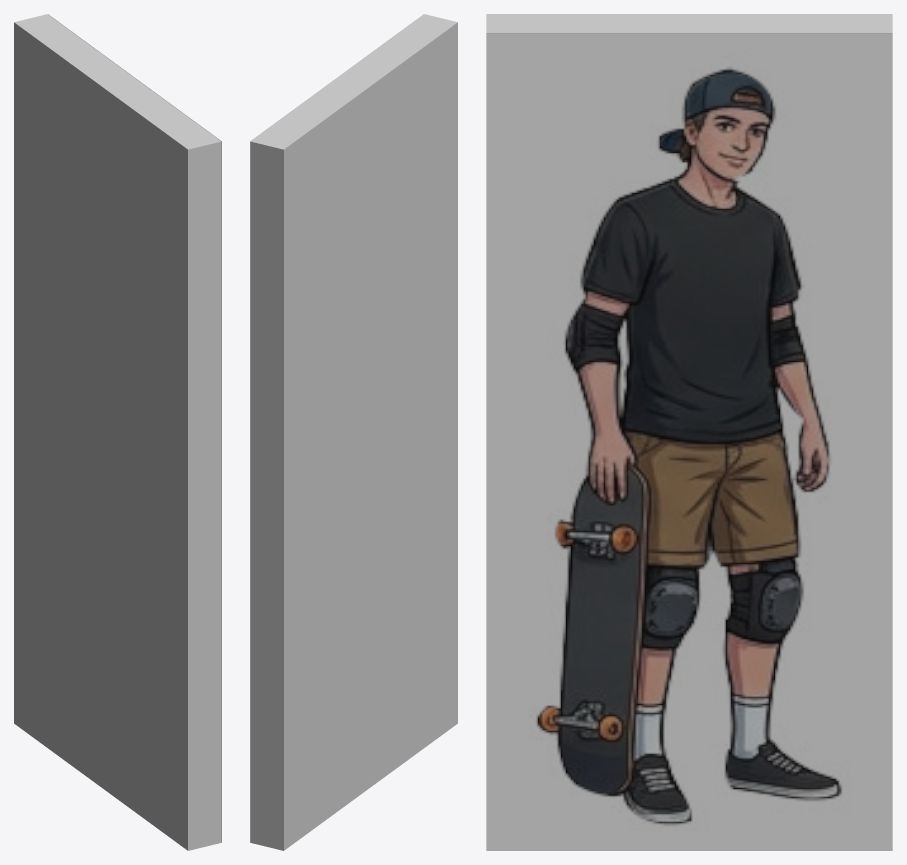
3 renders of one model, left to right at view 1: azimuth 30°, elevation 25°; view 2: azimuth 150°, elevation 25°; view 3: azimuth 270°, elevation 25°, orthographic. The views are drawn at different scales.
Parts seen in each view (by area): view 1: 立方体, 平面; view 2: 立方体, 平面; view 3: 平面, 立方体.
Part boxes in pixels (<box>): 立方体: <box>14,14,221,850</box>; 平面: <box>48,14,221,842</box>; 立方体: <box>250,14,457,850</box>; 平面: <box>250,14,423,842</box>; 平面: <box>486,33,892,850</box>; 立方体: <box>486,14,892,33</box>.
Bounding box in the file's own units: 0.0101 × 0.09 × 0.2.
1 material, 1 textured.
